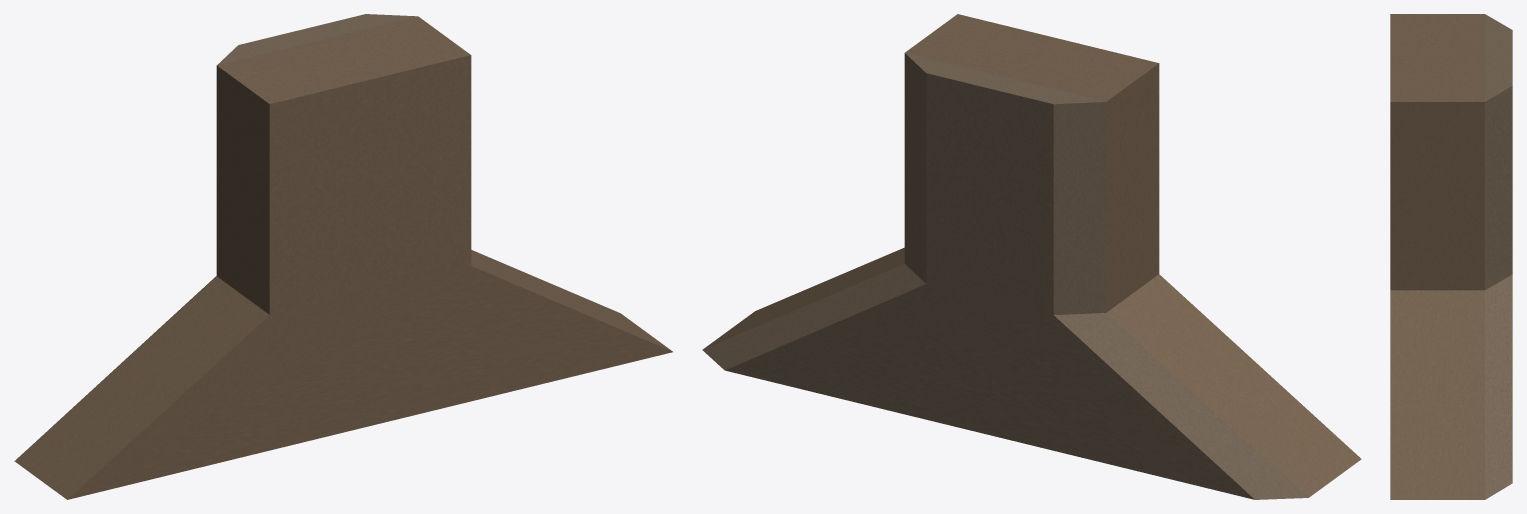
File: de_desert_1.fbx
The picture shows the model from 3 angles, left to right: view 1: azimuth 30°, elevation 25°; view 2: azimuth 150°, elevation 25°; view 3: azimuth 270°, elevation 25°; orthographic projection. The views are drawn at different scales.
Parts seen in each view (by area): view 1: Cube.311; view 2: Cube.311; view 3: Cube.311.
Boxes of the visible parts, left/top/right/bottom form: Cube.311: left=14, top=14, right=672, bottom=499; Cube.311: left=702, top=14, right=1361, bottom=499; Cube.311: left=1390, top=14, right=1512, bottom=499.
Bounding box in the file's own units: 529 × 289 × 103.
